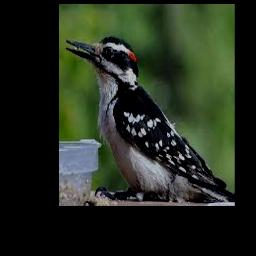Woodpecker: (65, 36, 235, 202)
